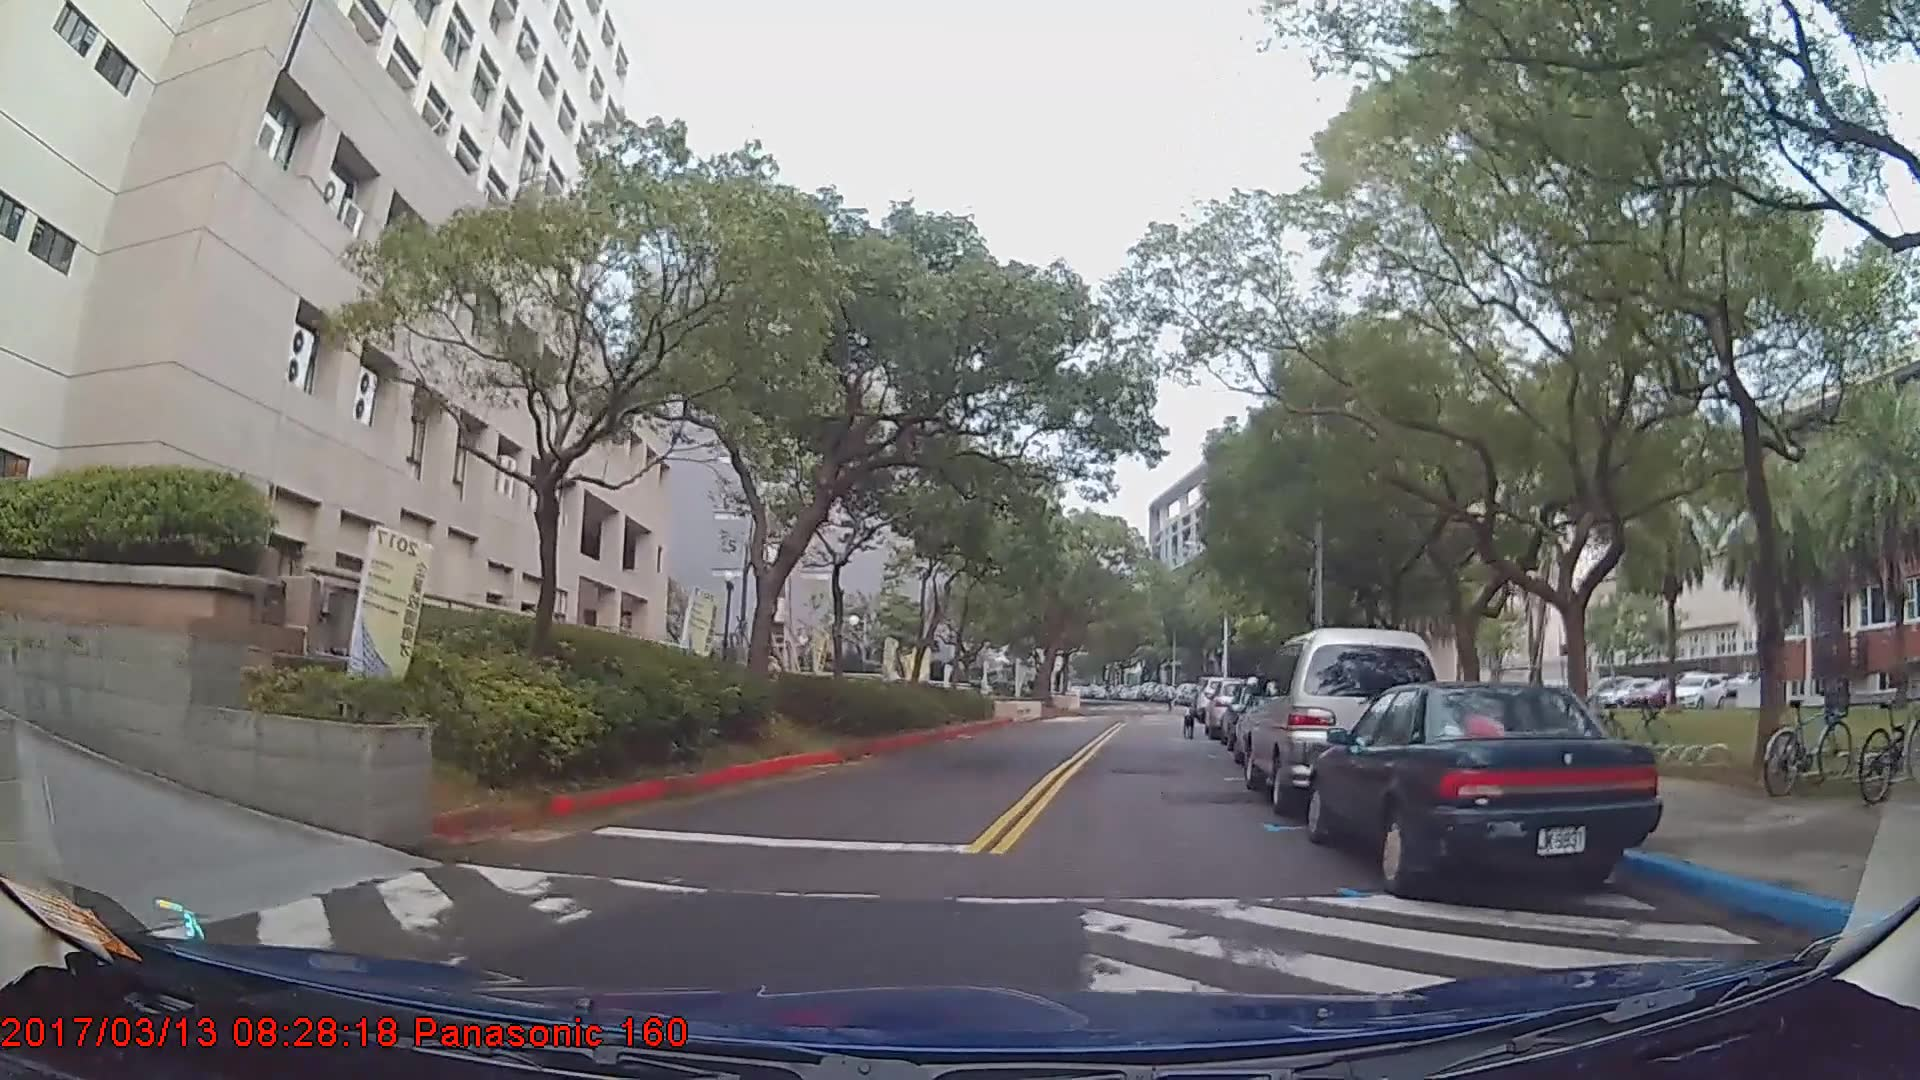vehicle: (1305, 683, 1664, 898), (1244, 628, 1443, 819)
